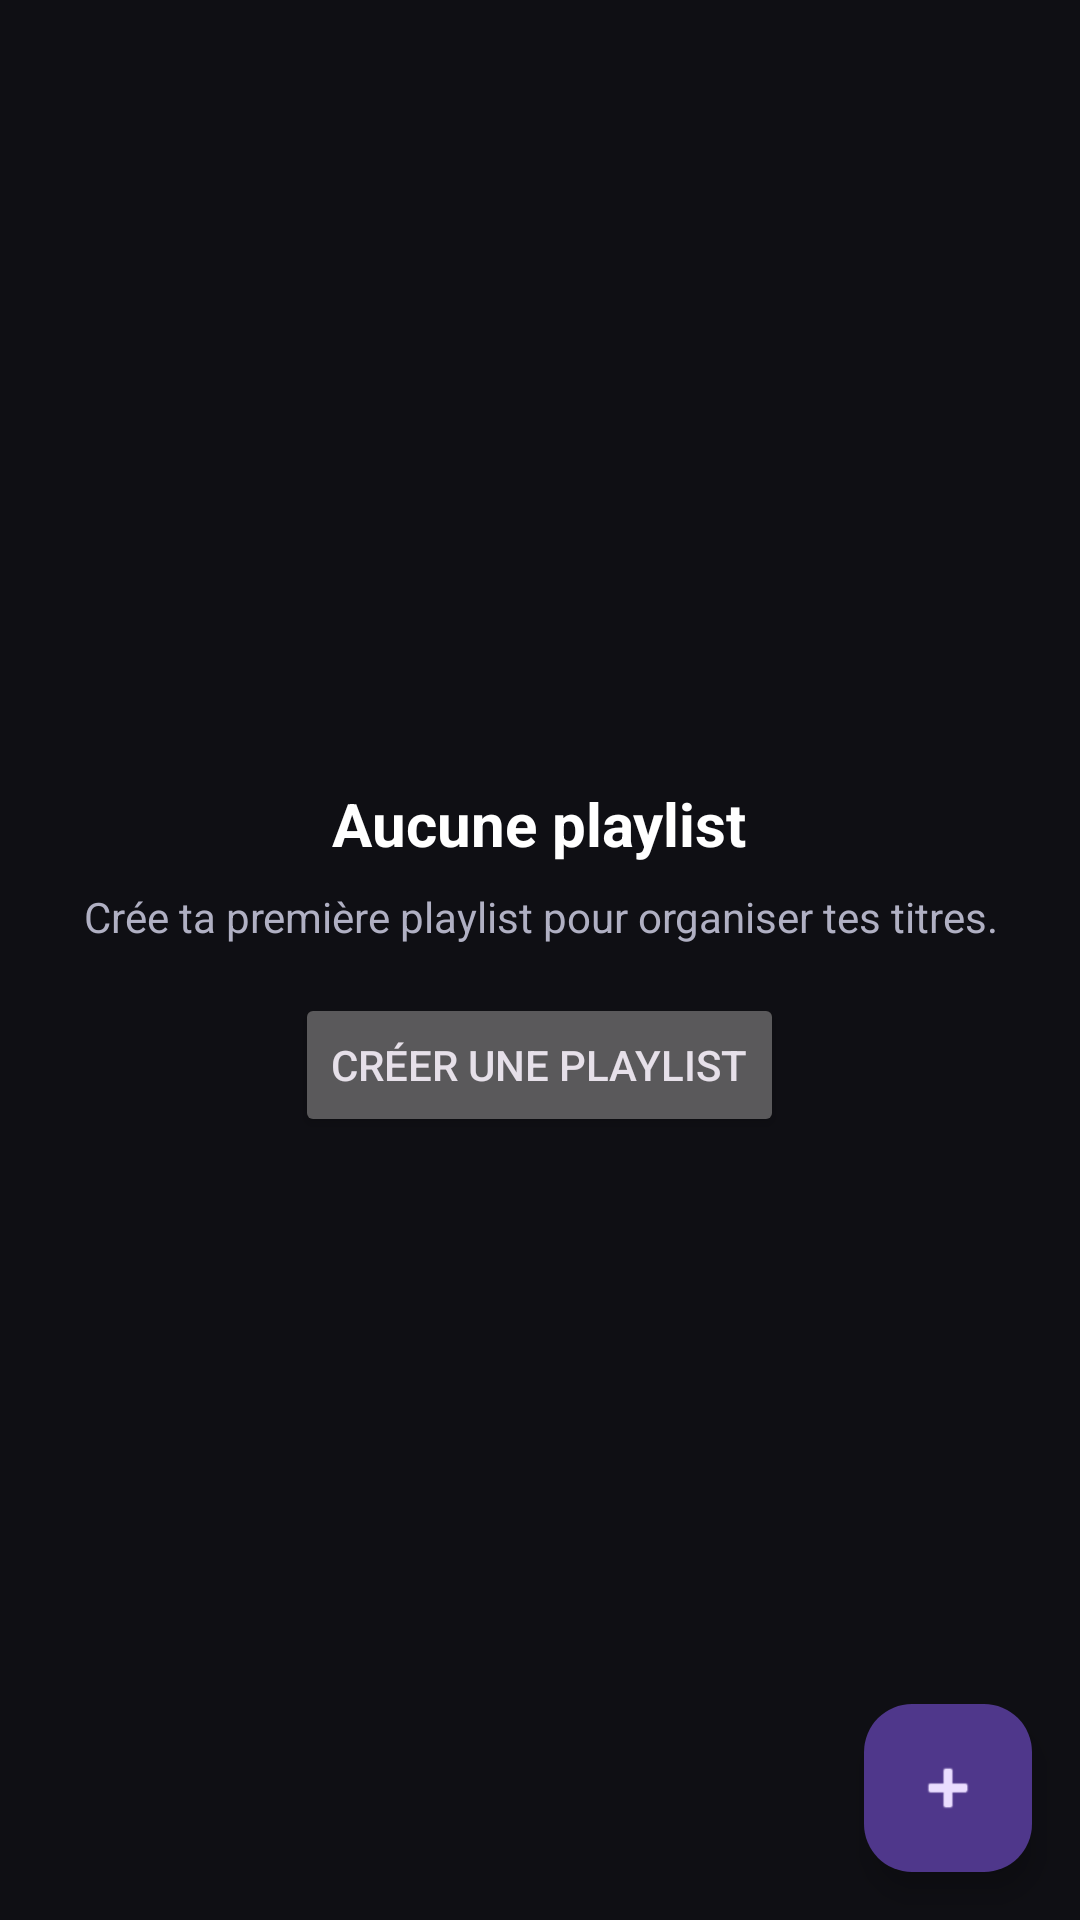

Icons on this 1080px x 1920px Android screen, each with its box as [x1, y1, x2, y2]:
Créer une playlist: [864, 1704, 1032, 1872]
